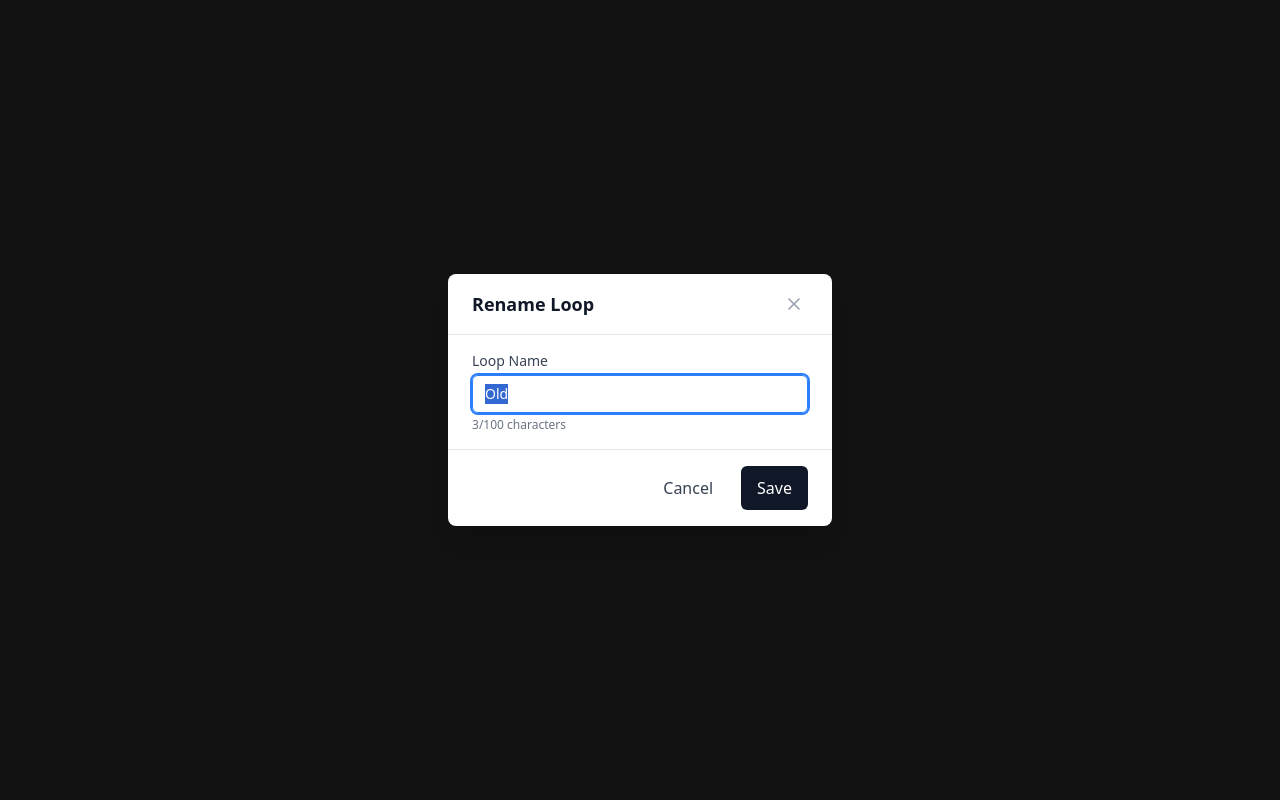
Scenario: RenameLoopModal › input clears error on change › clears error when user types in input
Replace the text in the field labelled "Loop Name" with "New" at point(640, 394), box [472, 375, 808, 413]
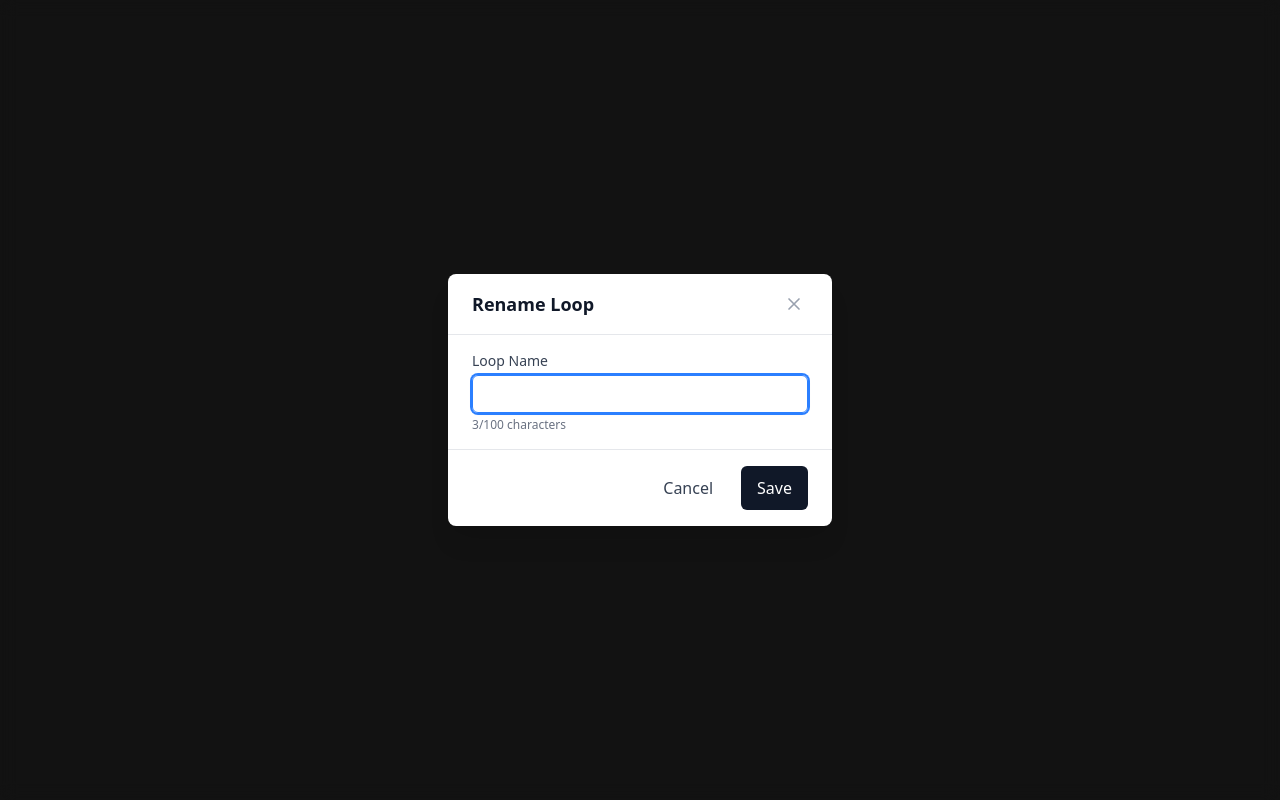
Click the button "Save".
click(775, 488)  # box [741, 466, 808, 510]
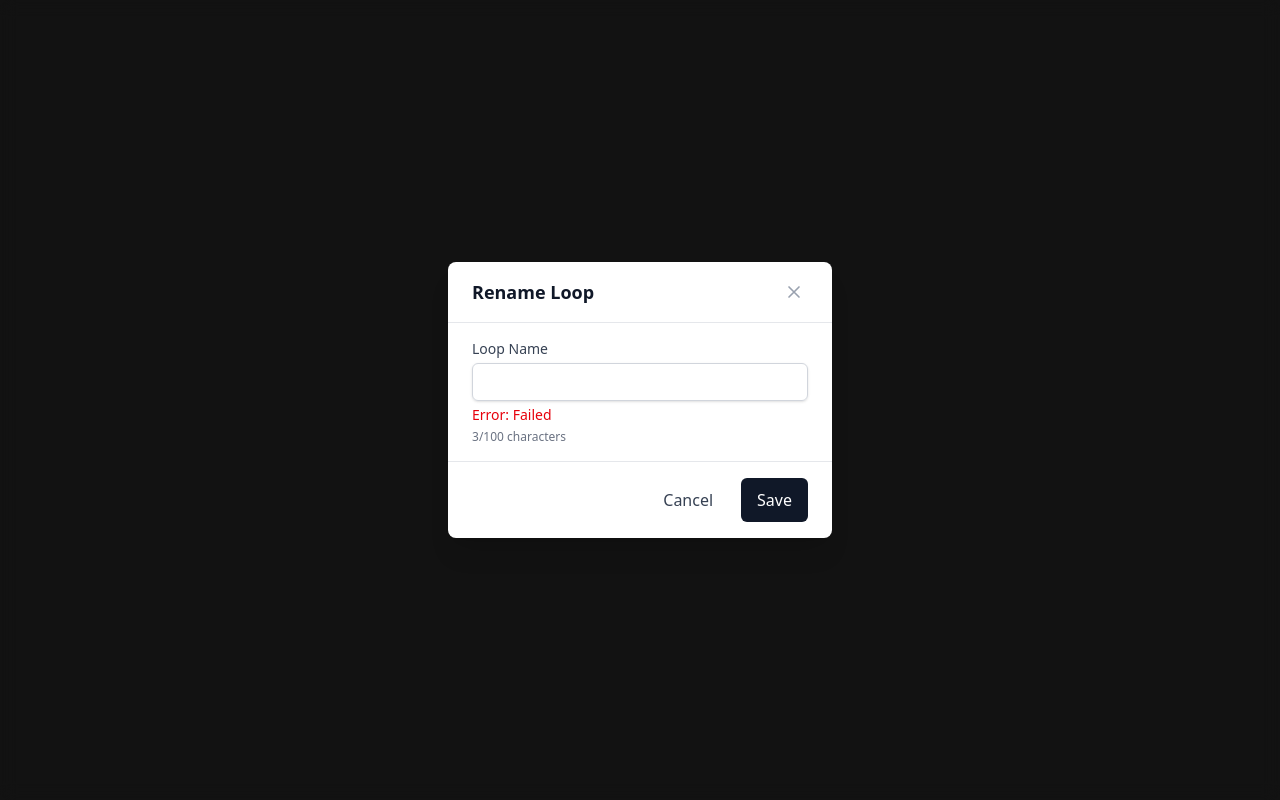
Expected: the text "Error: Failed" is shown, [472, 405, 552, 424]
// Now type to clear the error
Type "x" into the field labelled "Loop Name".
click(640, 382); type("x")  # box [472, 363, 808, 401]
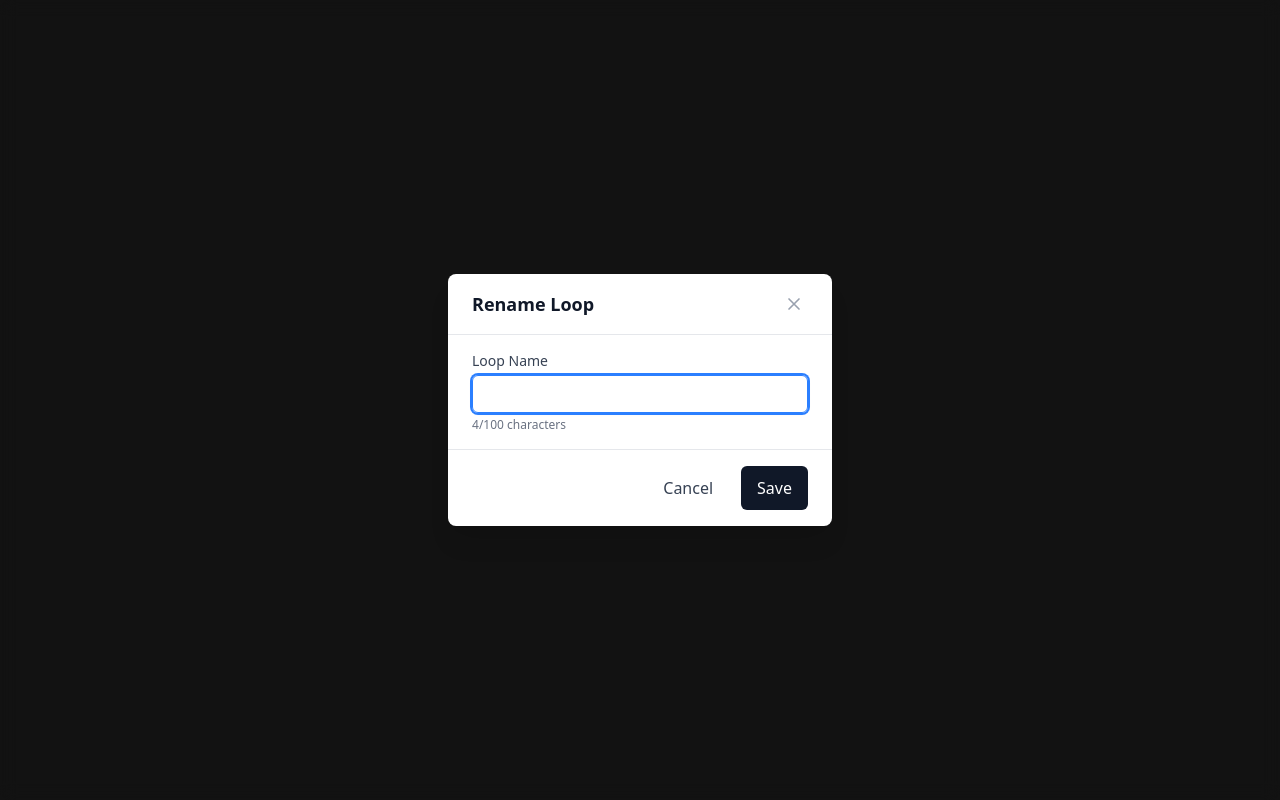
Expected: the text "Failed" is gone
